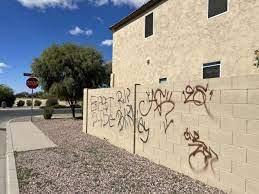graffiti: (91, 84, 218, 173)
